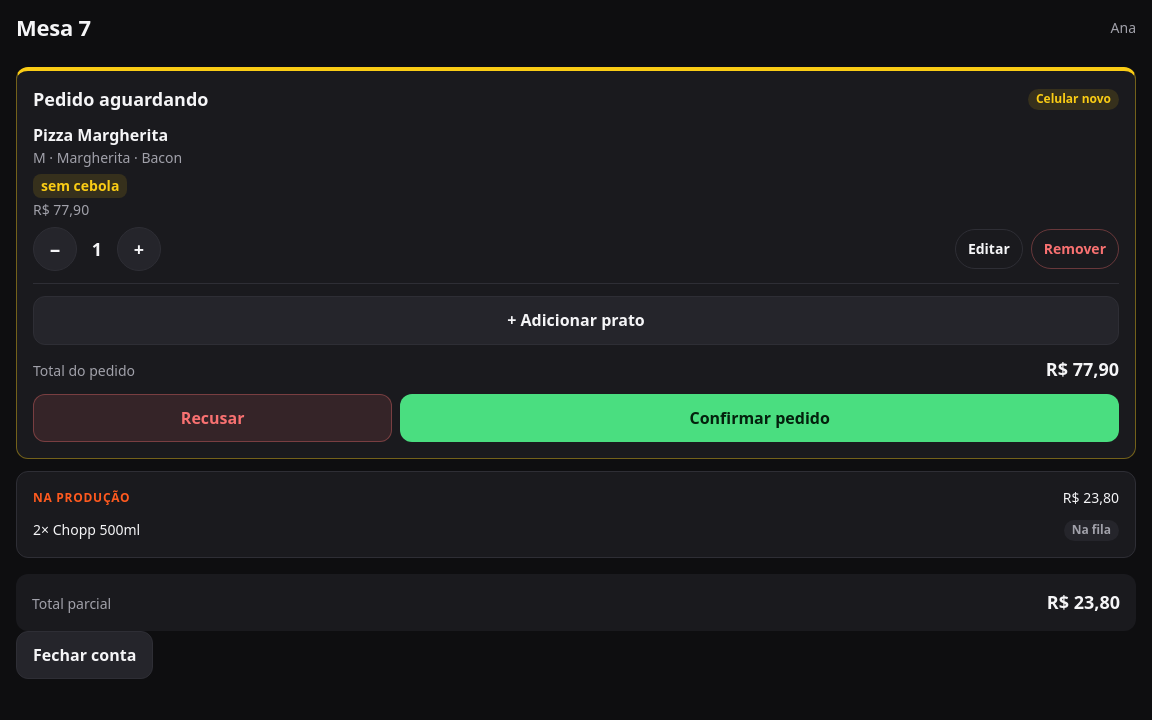
Test case: Tela da mesa › Editar troca o tamanho da pizza, mantém adicional e observação, e o total muda
Expected: the heading "Mesa 7" is shown, [16, 12, 91, 43]
Step 1. Click the button with aria-label "Editar Pizza Margherita" → (989, 249), box [955, 229, 1023, 269]
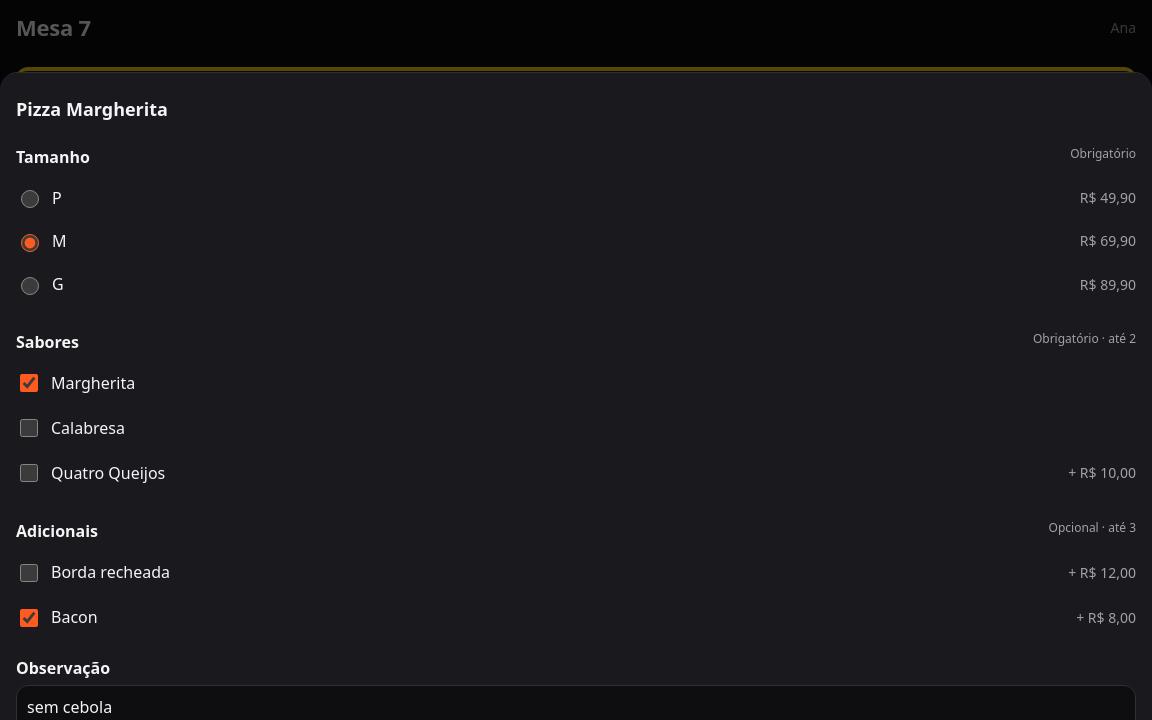
Step 2. Click the radio button labelled "G R$ 89,90" → (30, 286), box [21, 277, 39, 295]
(page scrolled)
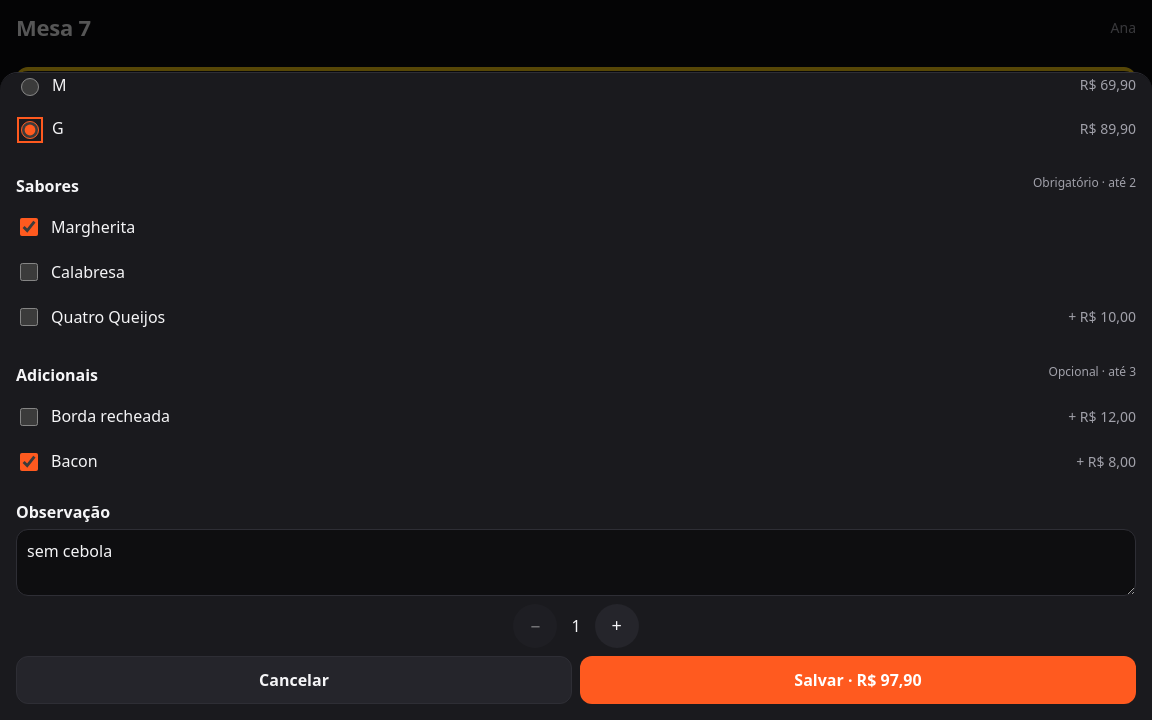
Step 3. Click the button "Salvar · R$ 97,90" → (858, 680), box [580, 656, 1136, 704]
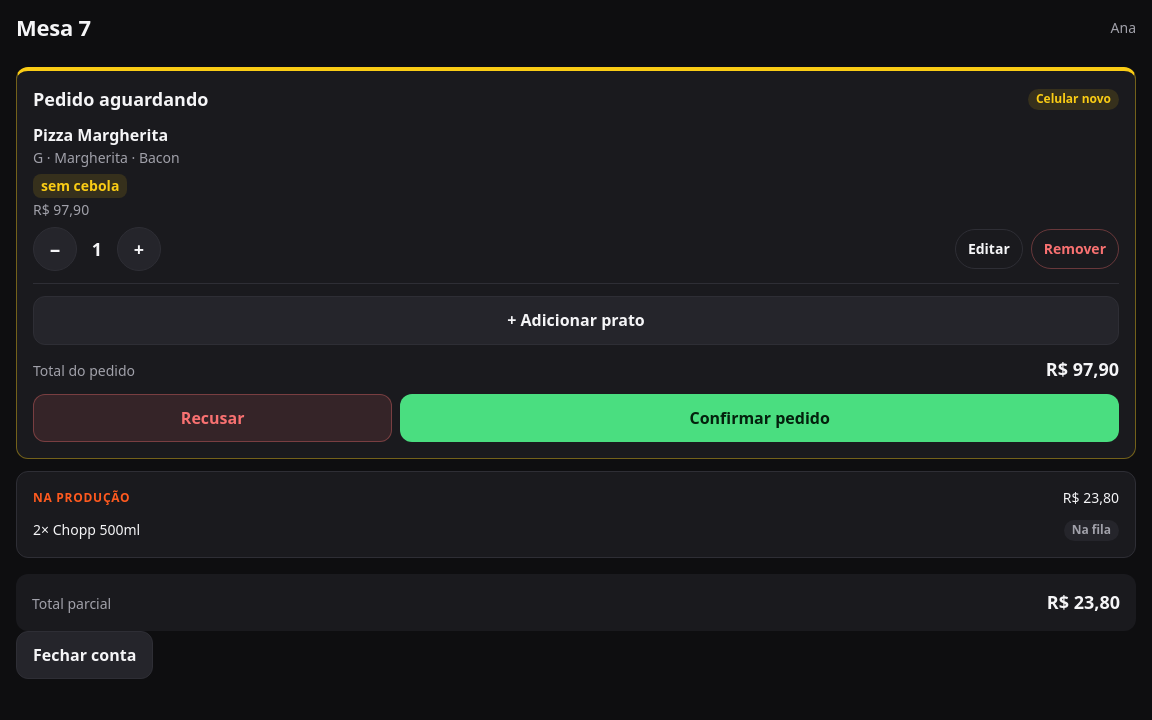
Result: the text "G · Margherita · Bacon" is shown at [33, 148, 180, 167]
